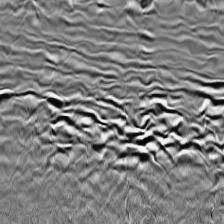cavities: (41, 77, 224, 170)
